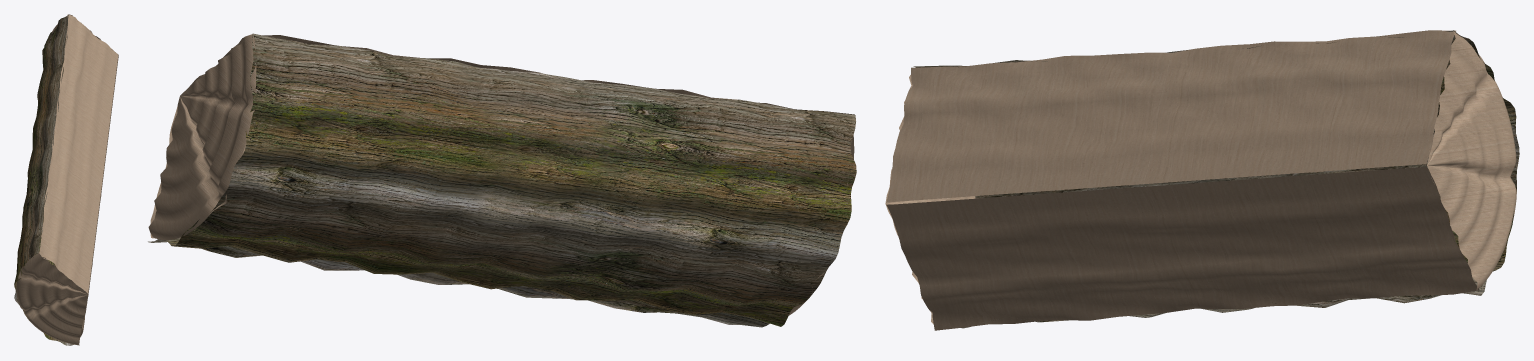
File: fresno_seco_v003_candidate.glb
The picture shows the model from 3 angles, left to right: view 1: azimuth 30°, elevation 25°; view 2: azimuth 150°, elevation 25°; view 3: azimuth 270°, elevation 25°; orthographic projection. The views are drawn at different scales.
Parts seen in each view (by area): view 1: Split seasoned fresno - continuous bark / fibre / endgrain; view 2: Split seasoned fresno - continuous bark / fibre / endgrain; view 3: Split seasoned fresno - continuous bark / fibre / endgrain.
Boxes of the visible parts, x1,y1,x2,y2 form: Split seasoned fresno - continuous bark / fibre / endgrain: (14, 14, 118, 345); Split seasoned fresno - continuous bark / fibre / endgrain: (148, 33, 856, 327); Split seasoned fresno - continuous bark / fibre / endgrain: (885, 30, 1519, 330).
Bounding box in the file's own units: 0.3617 × 0.3229 × 0.4447.
Materials: 2 (2 with a texture image).
